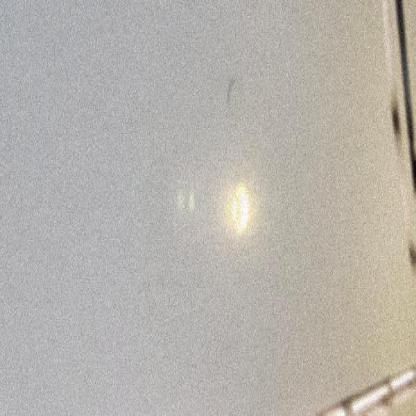light_on: (225, 169, 259, 257)
